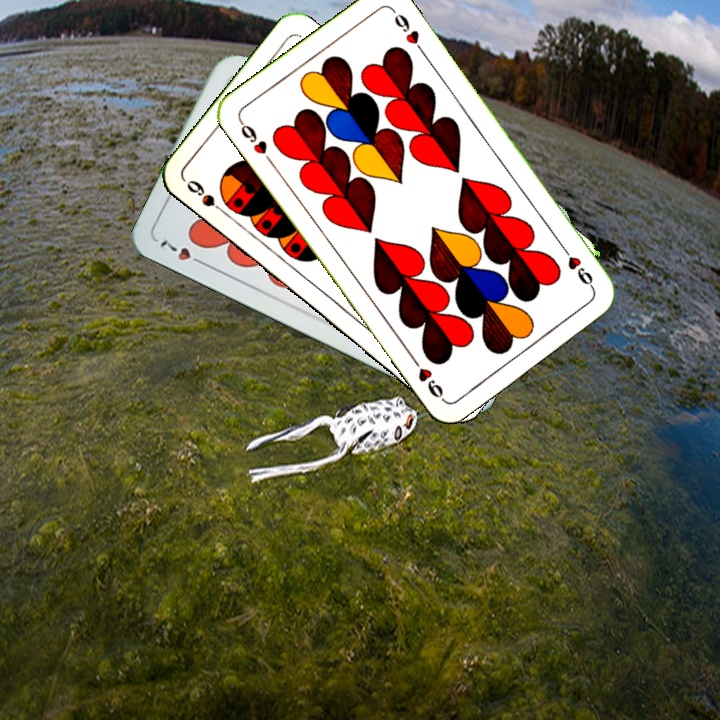H7: (155, 236, 209, 269)
H9: (235, 116, 276, 167), (557, 241, 597, 292)
S9: (182, 175, 232, 219)
